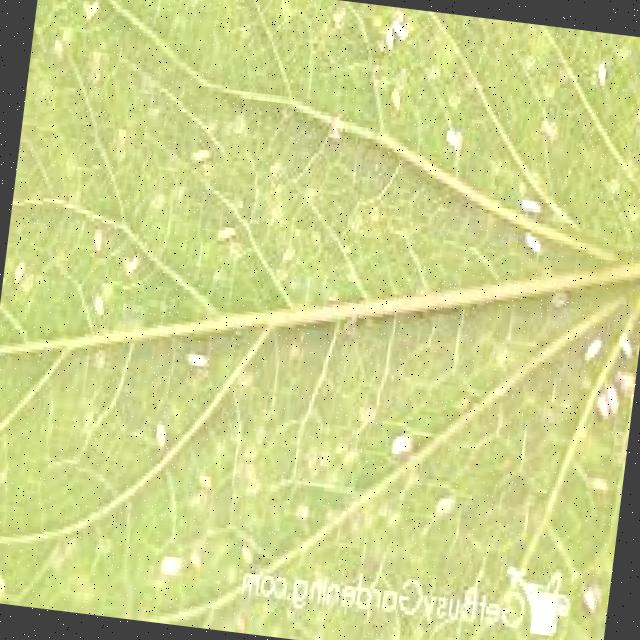whitefly: (0, 0, 640, 573), (0, 504, 232, 630)
